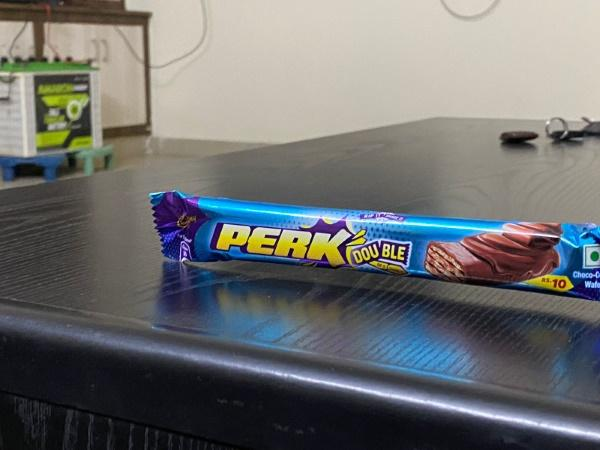Perk: (149, 177, 600, 316)
